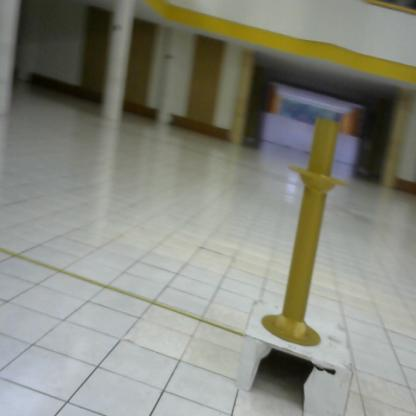pole: (261, 110, 364, 358)
